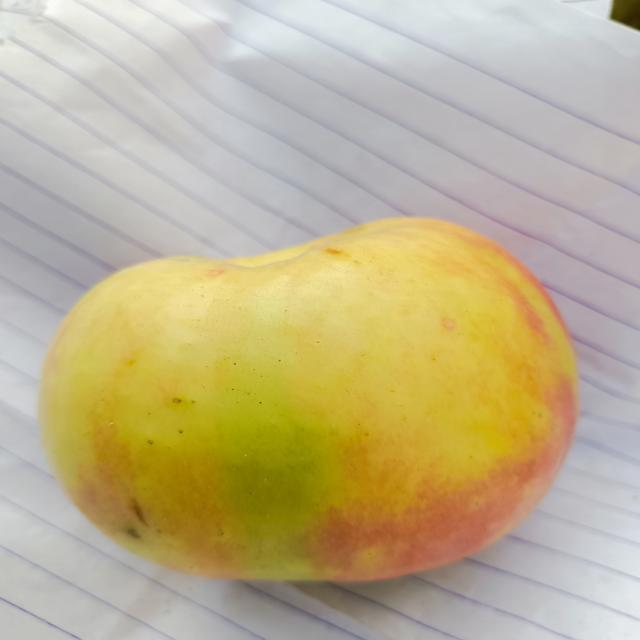Fresh Apple: (46, 245, 586, 588)
